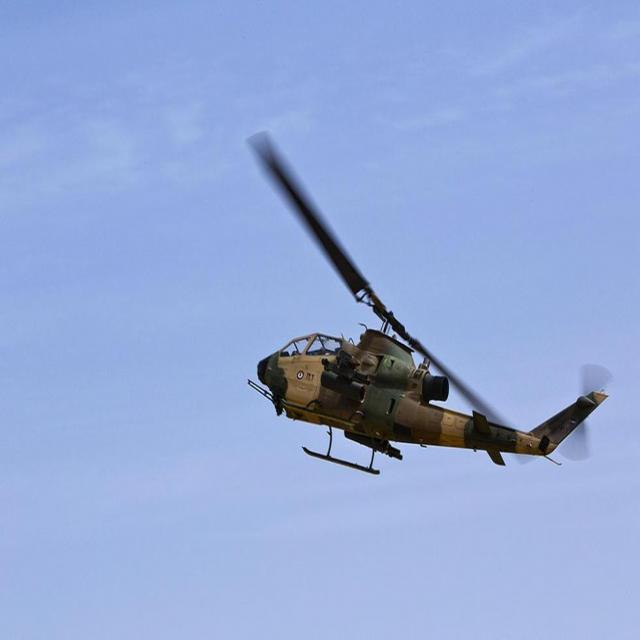MIL_HELO: (240, 120, 614, 510)
